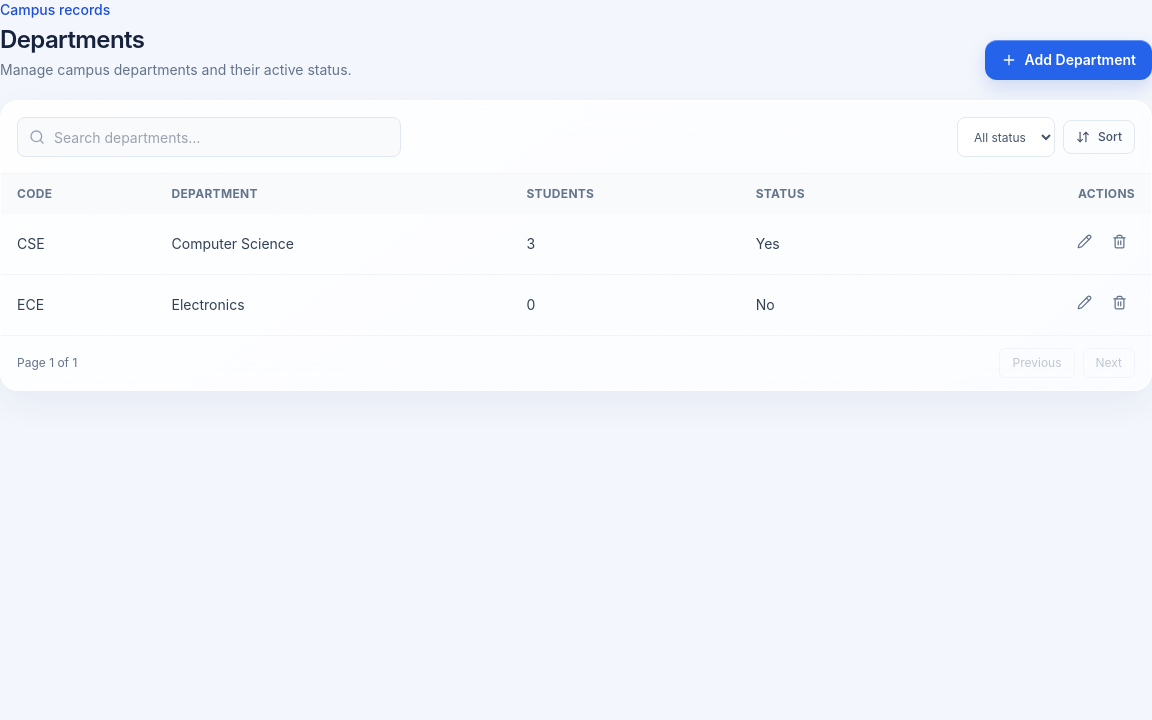
it: ModuleManager › surfaces a server validation error inside the form
Click the button "Add Department".
click(1068, 60)  # box [985,40,1151,80]
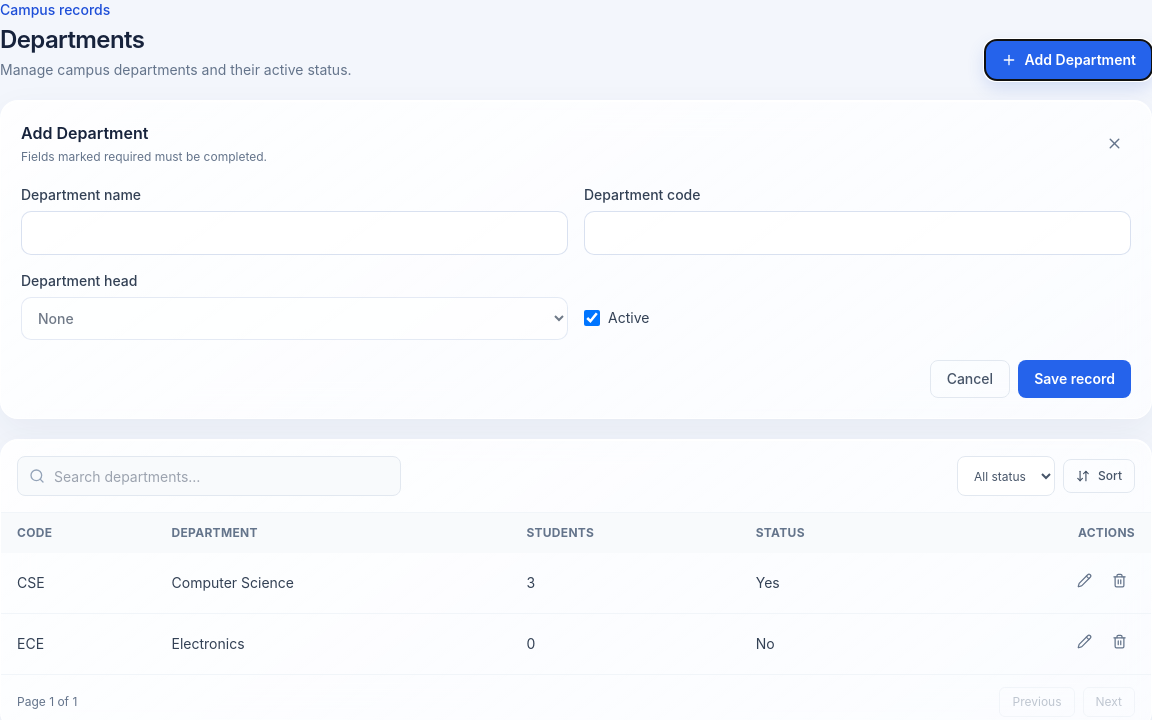
Type "Duplicate" into the field labelled "Department name".
click(294, 233); type("Duplicate")  # box [21,211,568,255]
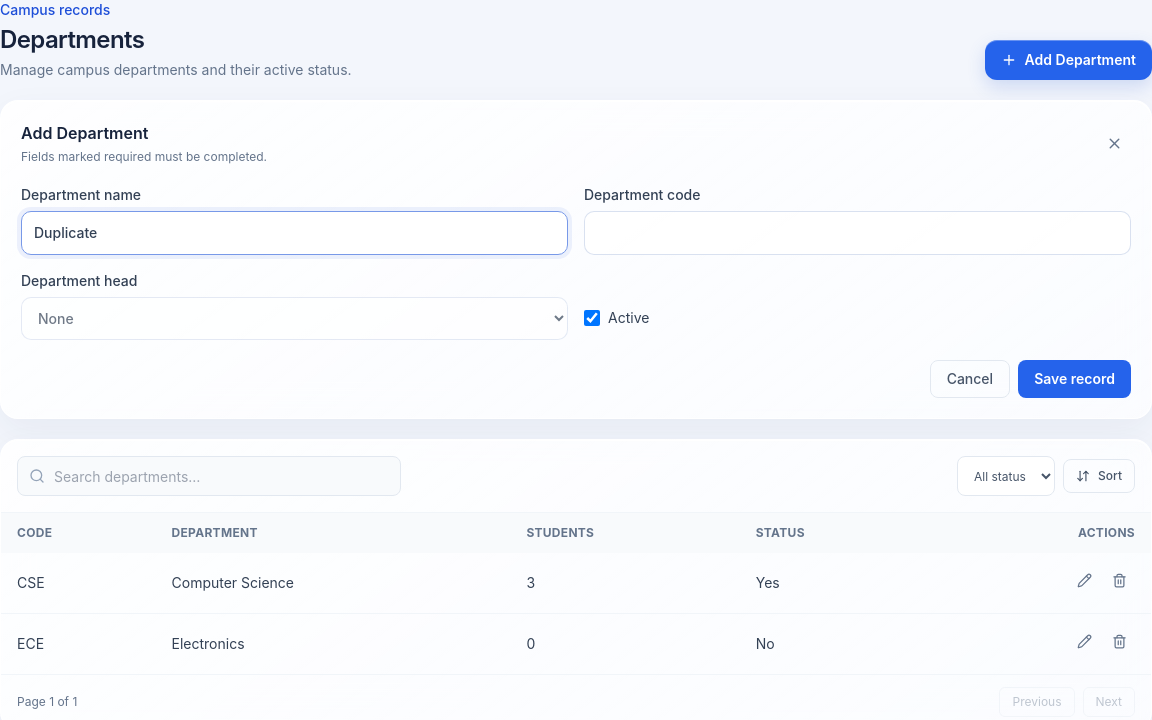
Type "CSE" into the field labelled "Department code".
click(858, 233); type("CSE")  # box [584,211,1131,255]
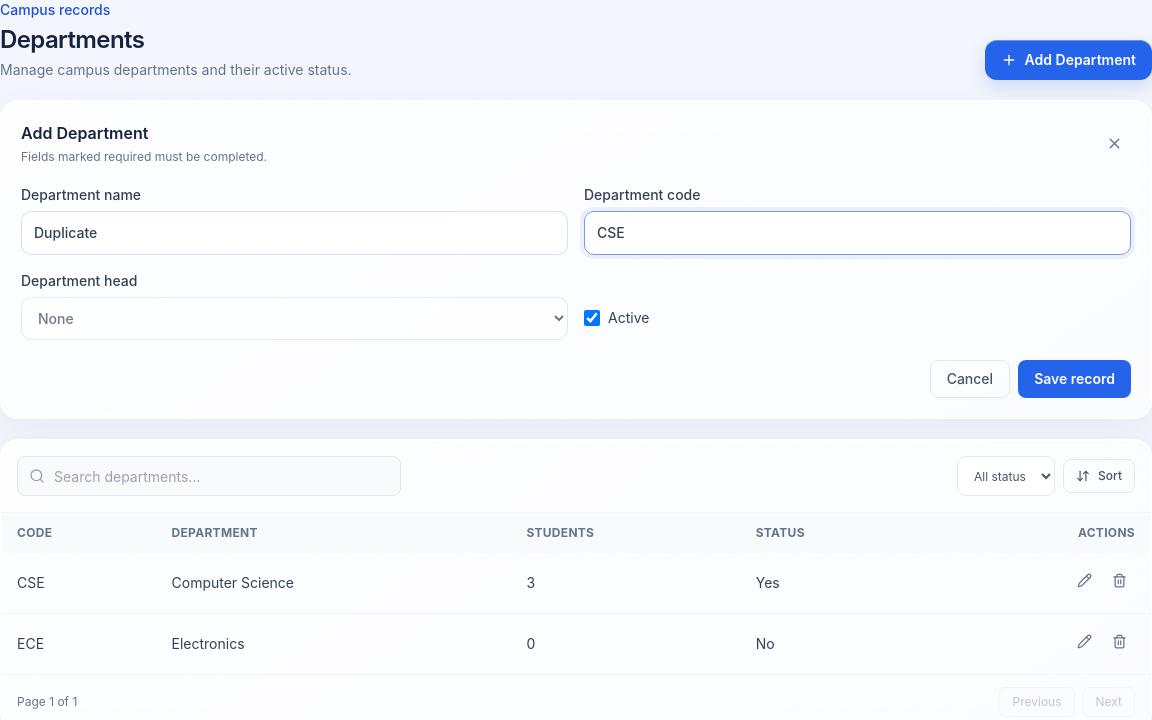
Click the button "Save record".
click(1075, 379)  # box [1018,360,1131,398]
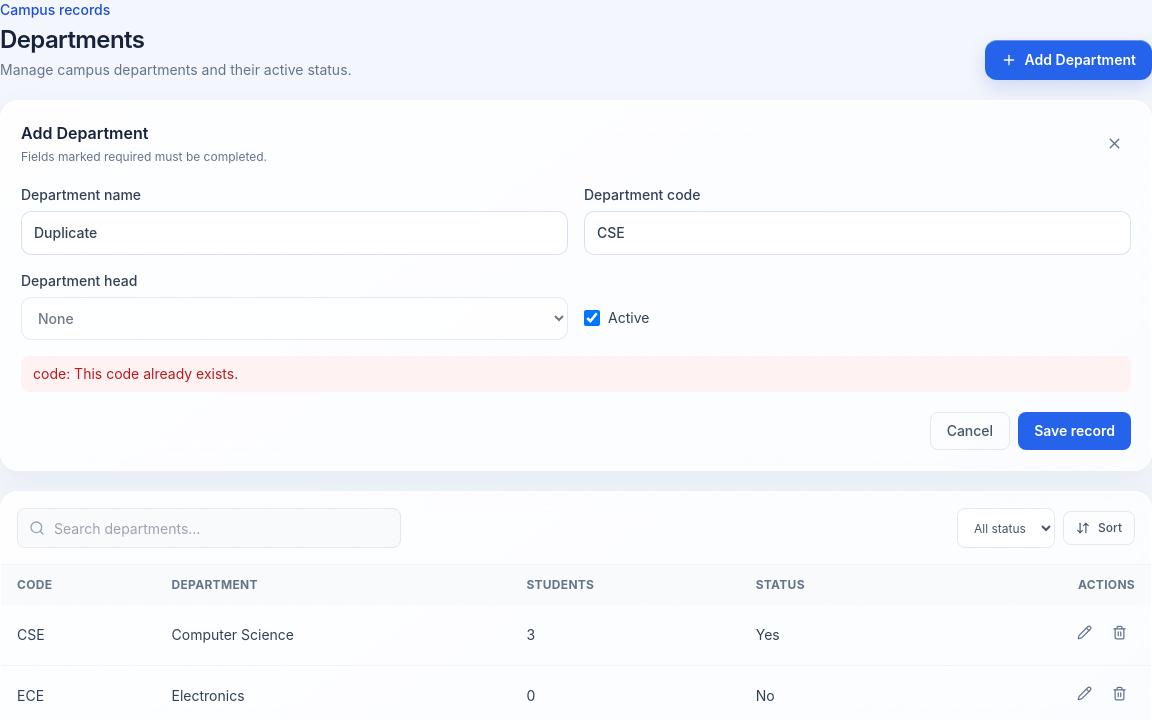
Now the message reads "code: This code already exists.", box [33,365,238,382]
